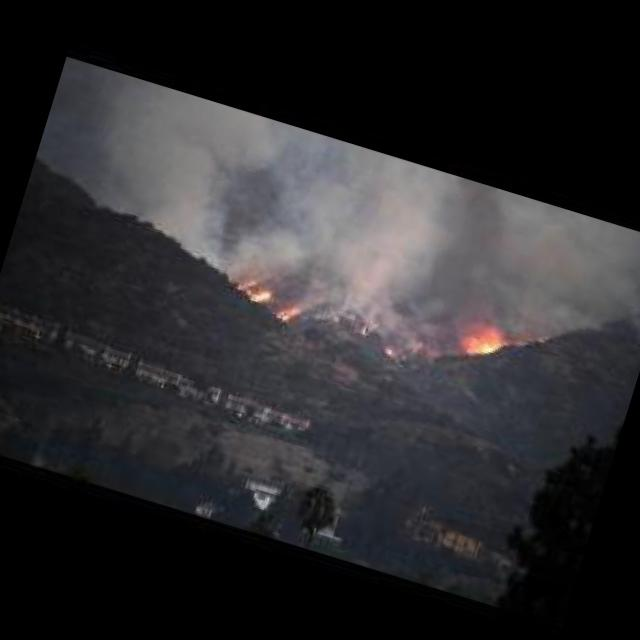fire: (230, 273, 302, 324), (455, 314, 515, 366)
